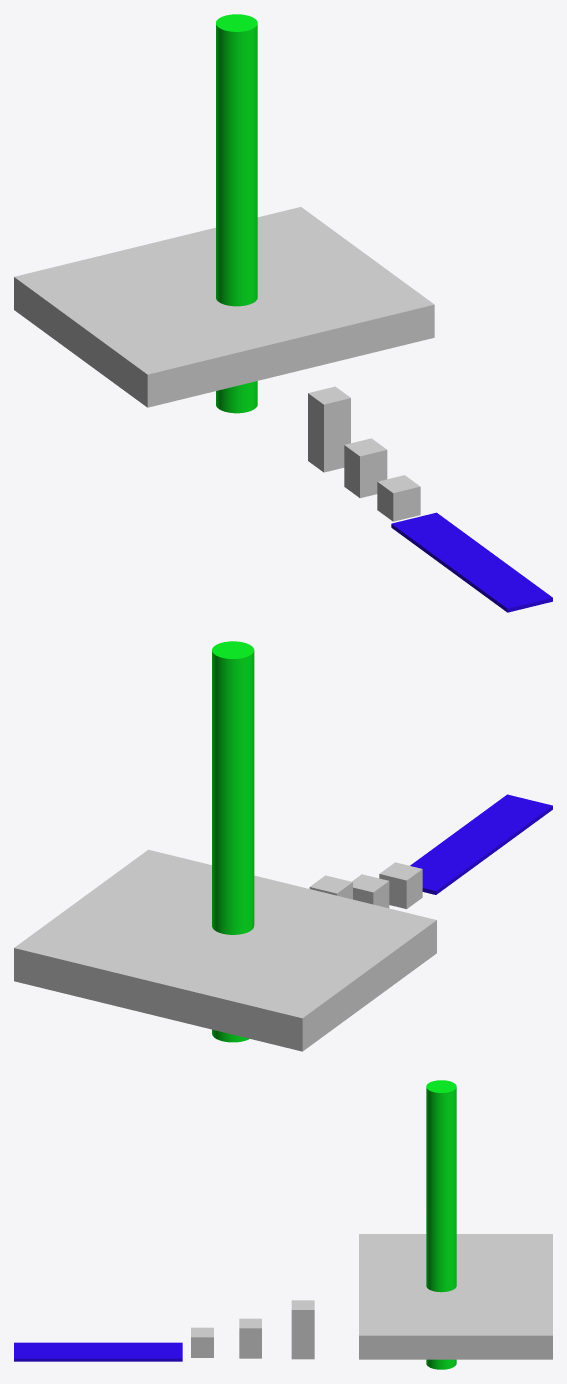
3 views of the same model, one above another, from view 1: azimuth 30°, elevation 25°; view 2: azimuth 150°, elevation 25°; view 3: azimuth 270°, elevation 25° (orthographic). The views are drawn at different scales.
Visible parts, largest first — view 1: Box (×4), End_point, Pad 1; view 2: Box (×4), End_point, Pad 1; view 3: Box (×4), End_point, Pad 1.
Part boxes in pixels (x1,y1,x2,y2): Box (×4): [14, 207, 434, 521]; End_point: [216, 14, 257, 413]; Pad 1: [391, 512, 552, 612]; Box (×4): [14, 849, 436, 1051]; End_point: [212, 641, 254, 1042]; Pad 1: [410, 794, 552, 894]; Box (×4): [191, 1234, 552, 1359]; End_point: [426, 1080, 456, 1369]; Pad 1: [14, 1342, 182, 1361].
Size of the model in its own units: 31.58 by 40.09 by 70.75.
